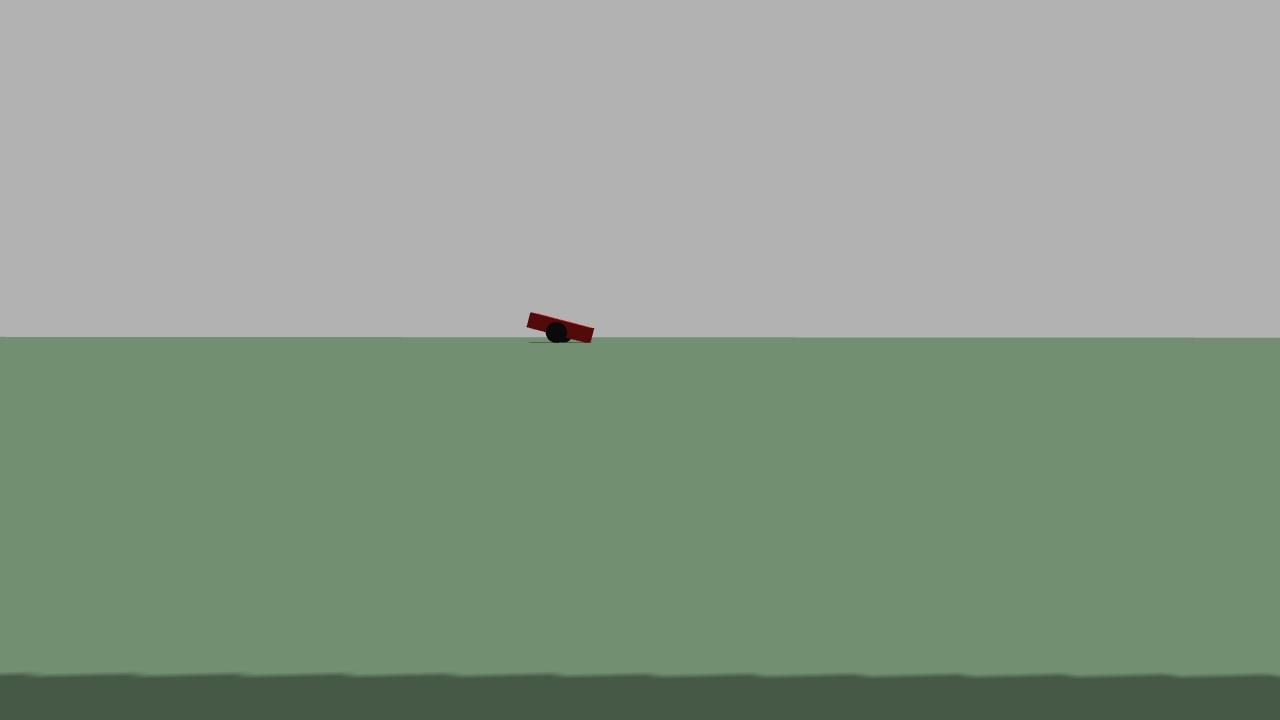ground_vehicle: (523, 300, 602, 354)
